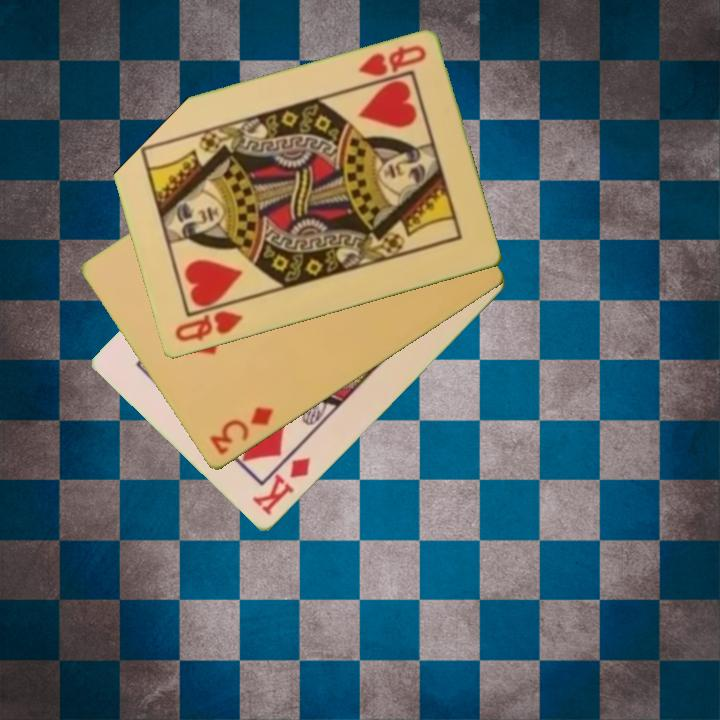3d: (206, 403, 276, 459)
Kd: (248, 454, 314, 519)
Qh: (354, 42, 429, 80), (171, 307, 245, 345)
